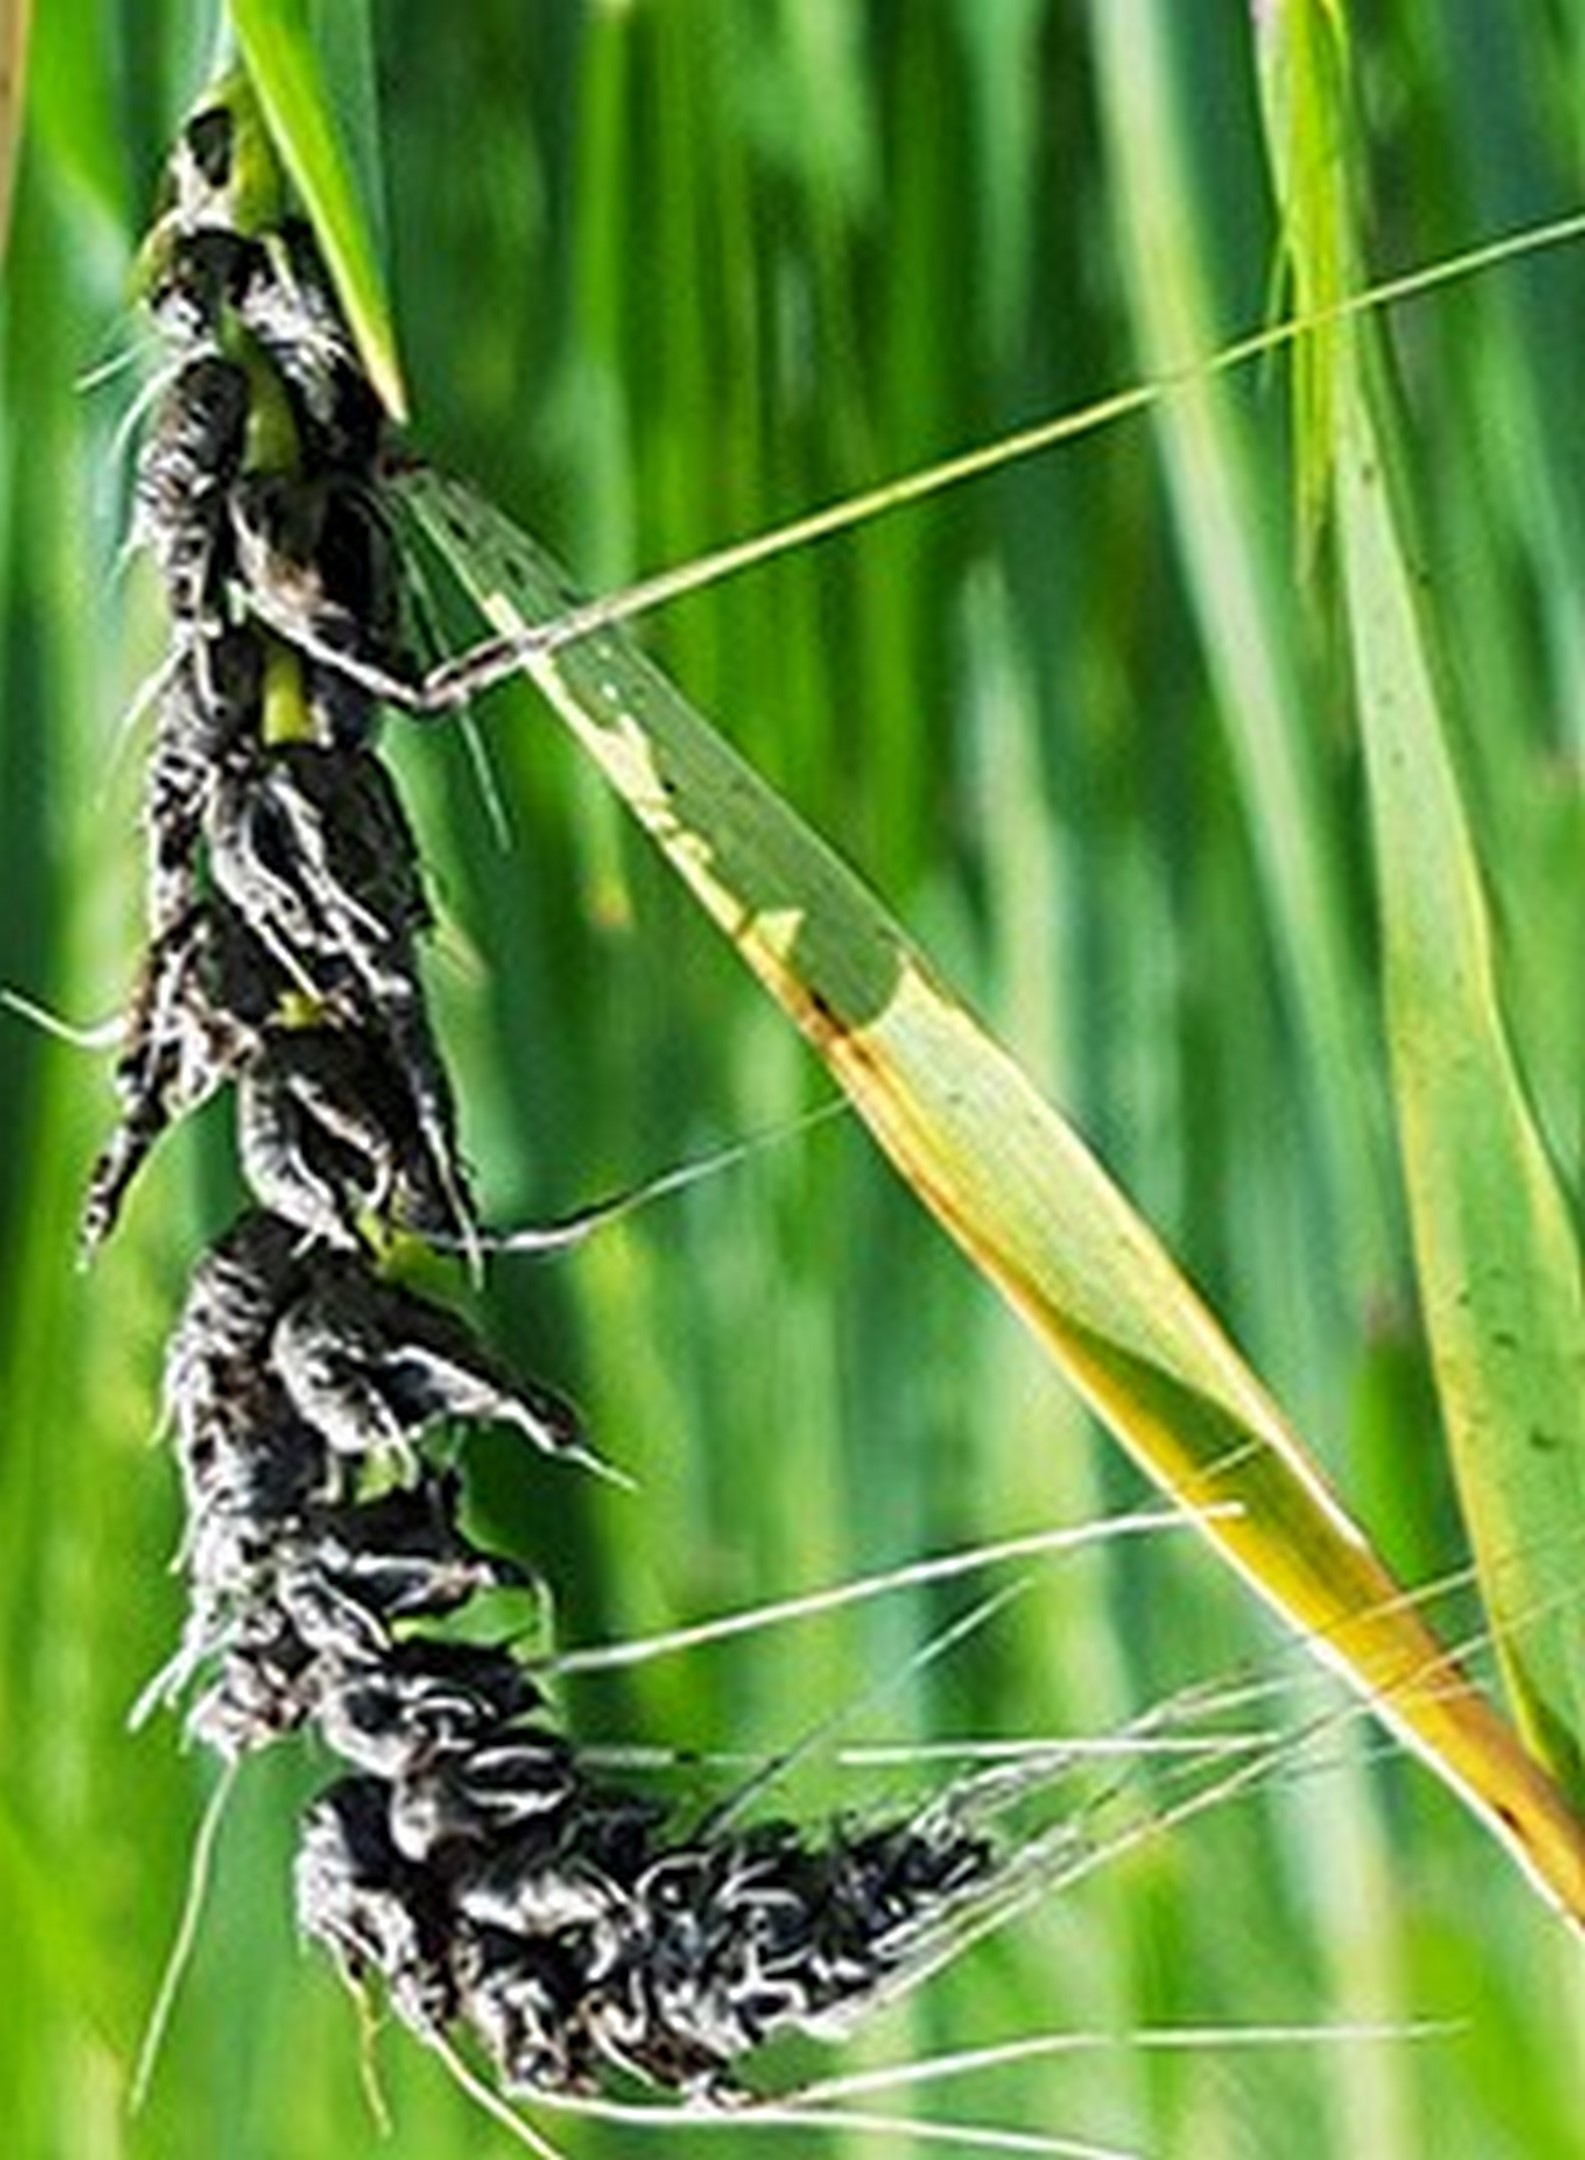Wheat Loose Smut: (92, 163, 1072, 2096)
